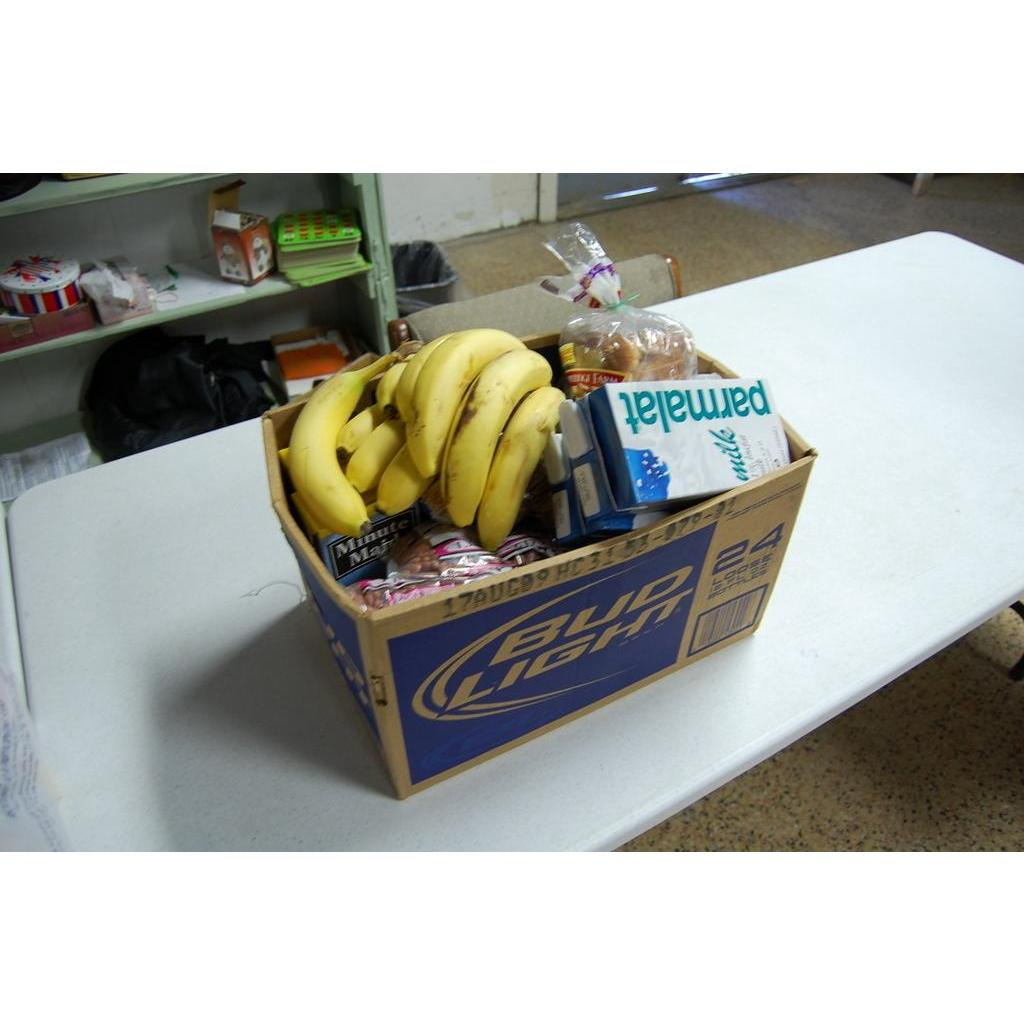banana: (438, 348, 553, 528), (407, 328, 526, 478), (281, 368, 378, 536), (475, 385, 567, 549)
